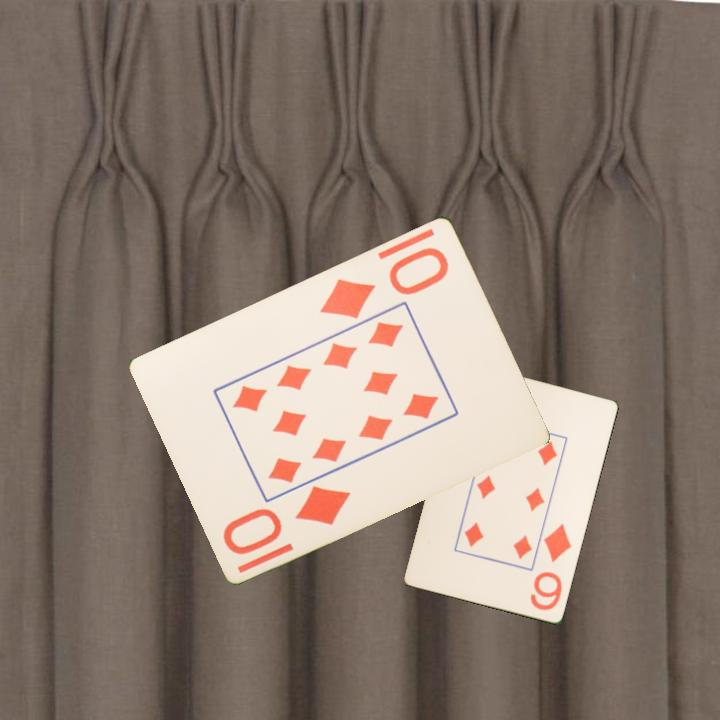10d: (316, 242, 452, 322), (219, 481, 354, 558)
6d: (527, 520, 575, 614)
